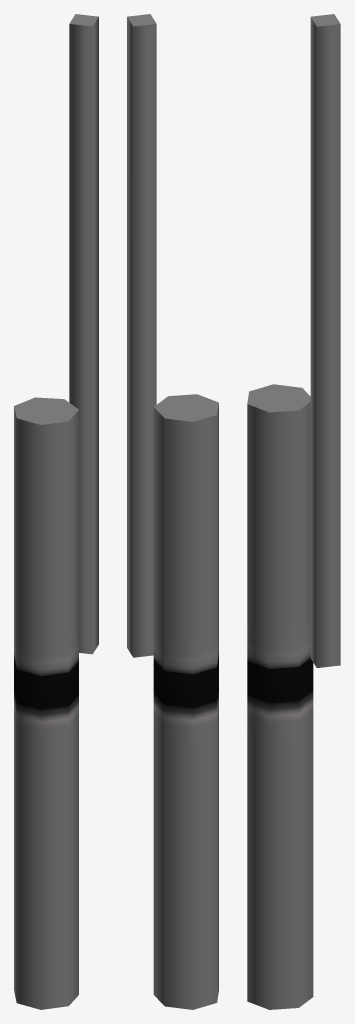
The model's file is 00_03_outside_antenna_B.DAE.
The picture shows the model from 3 angles, left to right: view 1: azimuth 30°, elevation 25°; view 2: azimuth 150°, elevation 25°; view 3: azimuth 330°, elevation 25°; orthographic projection. The views are drawn at different scales.
Parts seen in each view (by area): view 1: antenna_B; view 2: antenna_B; view 3: antenna_B.
Part boxes in pixels (x1,y1,x2,y2): antenna_B: [14, 14, 98, 1009]; antenna_B: [127, 14, 218, 1009]; antenna_B: [247, 14, 340, 1009].
Size of the model in its own units: 0.6536 by 7 by 0.4326.
